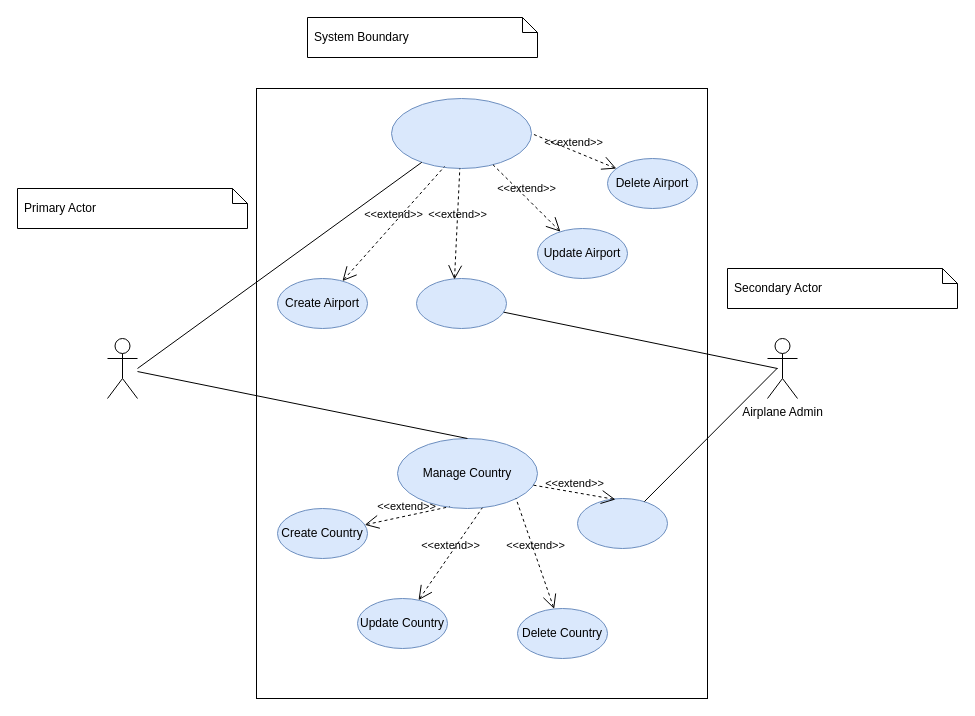
The diagram is 975 pixels wide and 716 high, and some of its shapes have lost their labels. The shapes that lost their labels are listed below. From the top down, each one's box as (x1, y1, x2, y2) in pixels, then its label:
(390, 98, 532, 168): Manage Airport
(416, 278, 506, 328): Retrieve Airport
(106, 338, 138, 398): Airport Admin
(576, 498, 668, 548): Retrieve Country
